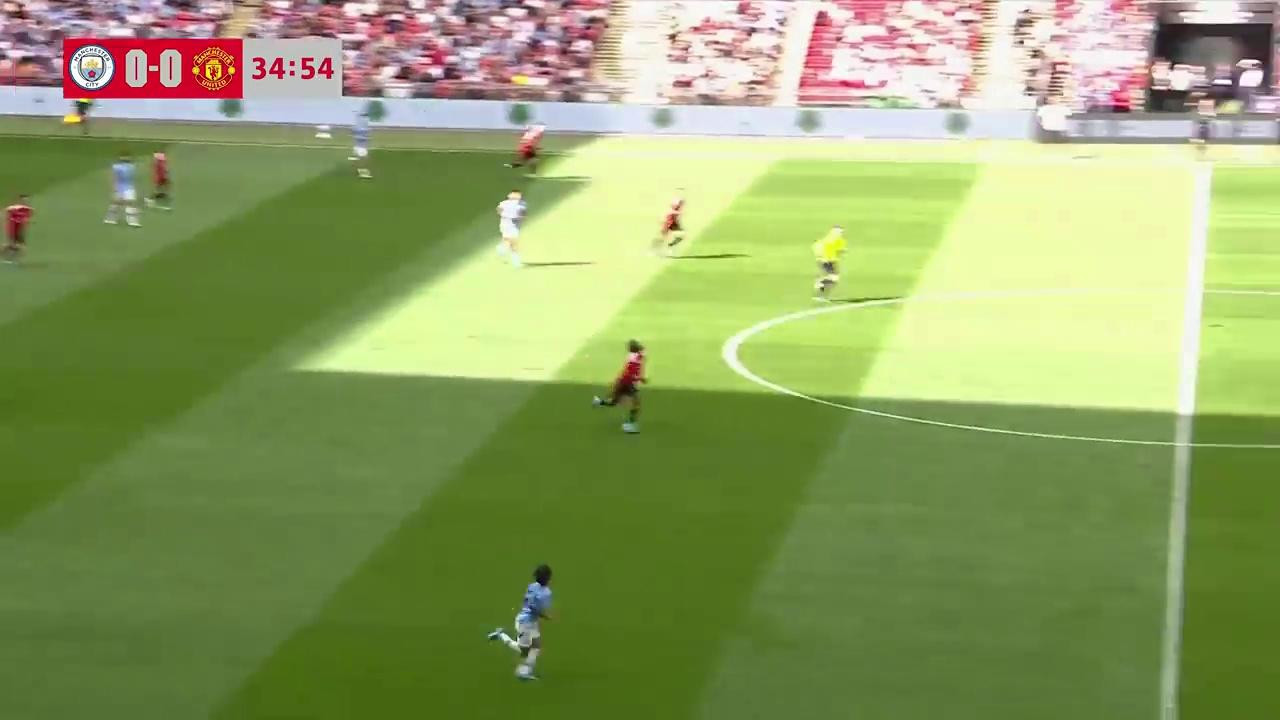ball: (126, 211, 141, 228)
player: (492, 564, 554, 681), (590, 339, 648, 435), (103, 155, 141, 227), (0, 193, 35, 264), (496, 189, 526, 267), (650, 193, 688, 254), (144, 148, 173, 210), (509, 123, 543, 171), (349, 117, 372, 178)
referee: (811, 225, 848, 302)
